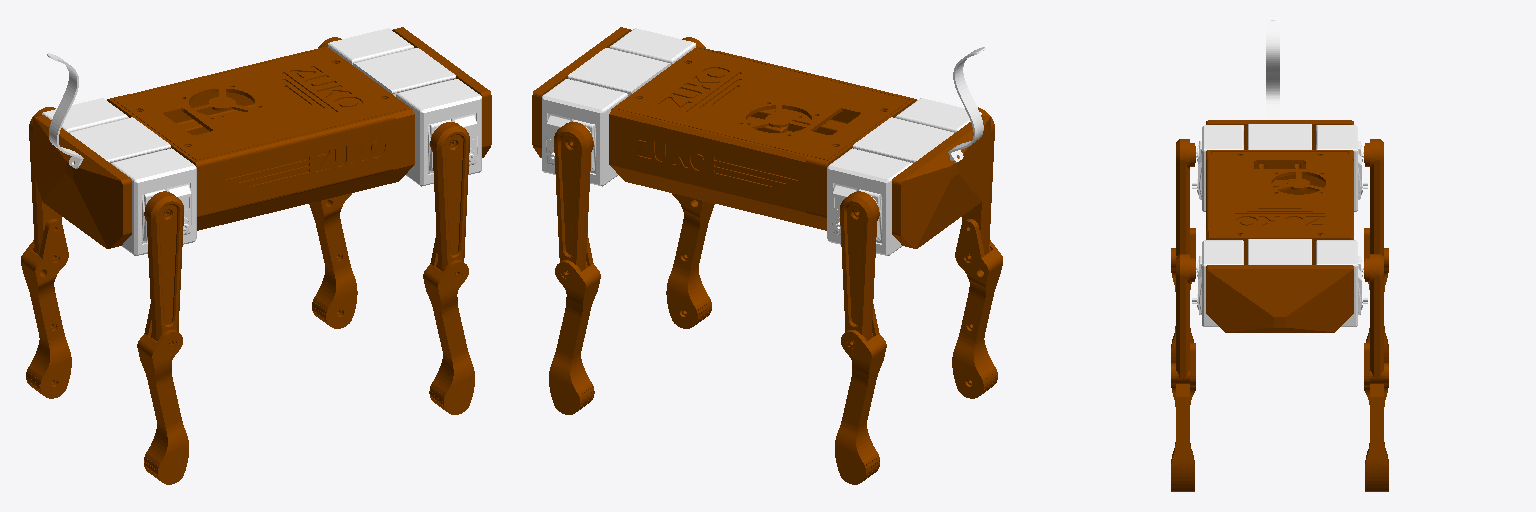
--- What the picture shows (computed from the rendered views, not written in the file) ---
Views: 3 orthographic renders of the robot side by side, from view 1: azimuth 30°, elevation 25°; view 2: azimuth 150°, elevation 25°; view 3: azimuth 270°, elevation 25°.
Robot: zuko — 23 links, 22 joints (12 revolute, 10 fixed); root link base_link; default pose: all joints at 0.
Links seen in each view (by area): view 1: electronics_cover_link, side_right_link, butt_link, back_left_lower_leg_link, front_right_lower_leg_link, back_right_lower_leg_link, front_right_hip_link, front_right_upper_leg_link, back_right_upper_leg_link, back_right_hip_link, front_left_lower_leg_link, bridge_front_link (+9 smaller); view 2: electronics_cover_link, side_left_link, butt_link, back_right_lower_leg_link, front_left_lower_leg_link, back_left_lower_leg_link, front_left_hip_link, front_left_upper_leg_link, back_left_upper_leg_link, back_left_hip_link, front_right_lower_leg_link, bridge_front_link (+9 smaller); view 3: electronics_cover_link, face_link, front_left_lower_leg_link, front_right_lower_leg_link, front_left_upper_leg_link, front_right_upper_leg_link, back_left_upper_leg_link, back_right_upper_leg_link, front_left_hip_link, front_right_hip_link, bridge_front_link, bridge_back_link (+8 smaller).
Link boxes in pixels (x1,y1,x2,y2): electronics_cover_link: (114,48,407,160); side_right_link: (204,113,395,228); butt_link: (33,115,131,248); back_left_lower_leg_link: (21,219,71,398); front_right_lower_leg_link: (423,233,474,414); back_right_lower_leg_link: (137,304,188,484); front_right_hip_link: (396,79,481,186); front_right_upper_leg_link: (430,122,469,278); back_right_upper_leg_link: (144,191,183,347); back_right_hip_link: (111,148,196,255); front_left_lower_leg_link: (309,193,357,328); bridge_front_link: (353,48,455,96); electronics_cover_link: (616,48,909,160); side_left_link: (629,113,819,228); butt_link: (892,115,990,248); back_right_lower_leg_link: (952,219,1002,398); front_left_lower_leg_link: (549,233,600,414); back_left_lower_leg_link: (835,304,886,484); front_left_hip_link: (542,79,627,186); front_left_upper_leg_link: (554,122,593,278); back_left_upper_leg_link: (840,191,879,347); back_left_hip_link: (827,148,912,255); front_right_lower_leg_link: (666,193,714,328); bridge_front_link: (568,48,670,96); electronics_cover_link: (1212,152,1347,236); face_link: (1206,265,1353,332); front_left_lower_leg_link: (1364,343,1388,491); front_right_lower_leg_link: (1171,343,1195,491); front_left_upper_leg_link: (1364,254,1383,383); front_right_upper_leg_link: (1176,254,1195,383); back_left_upper_leg_link: (1364,139,1383,256); back_right_upper_leg_link: (1176,139,1195,256); front_left_hip_link: (1316,240,1367,326); front_right_hip_link: (1192,240,1243,326); bridge_front_link: (1248,239,1311,264); bridge_back_link: (1248,124,1311,149).
Bounding box of the posed robot: 0.3471 × 0.19 × 0.3176 m (x, y, z).
23 mesh visuals loaded from 15 distinct referenced files (15 binary STL).

URDF robot description (zuko):
<?xml version="1.0" ?>
<!-- =================================================================================== -->
<!-- |    This document was autogenerated by xacro from [local-path]/zuko/quad_ws/src/quad_simulation/quad_simulation/urdf/zuko.urdf.xacro | -->
<!-- |    EDITING THIS FILE BY HAND IS NOT RECOMMENDED                                 | -->
<!-- =================================================================================== -->
<robot name="zuko">
  <!--
<xacro:include filename="$(find quad_urdf)/urdf/zuko_hips_and_legs.urdf.xacro" />
-->
  <material name="brown">
    <color rgba="0.588 0.294 0.0 1"/>
  </material>
  <material name="black">
    <color rgba="0.1 0.1 0.1 1"/>
  </material>
  <material name="white">
    <color rgba="1 1 1 1"/>
  </material>
  <!-- STATIC Links -->
  <link name="base_link">
    <visual>
      <origin rpy="1.5707963267948966 0 -1.5707963267948966" xyz="-0.0025 0 0"/>
      <geometry>
        <mesh filename="package://stl/center_front.stl" scale="1 1 1"/>
      </geometry>
      <material name="brown"/>
    </visual>
    <collision>
      <origin rpy="1.5707963267948966 0 -1.5707963267948966" xyz="-0.0025 0 0"/>
      <geometry>
        <!--<box size="${length} ${width} ${height}" />-->
        <mesh filename="package://stl/center_front.stl" scale="1 1 1"/>
      </geometry>
    </collision>
    <inertial>
      <mass value="0.6"/>
      <origin rpy="0 0 0" xyz="0 0 0"/>
      <!-- Inertial Axes -->
      <inertia ixx="0.0" ixy="0" ixz="0" iyx="0" iyy="0.0" iyz="0" izx="0" izy="0" izz="0.0"/>
    </inertial>
  </link>
  <gazebo reference="base_link">
  </gazebo>
  <link name="side_left_link">
    <visual>
      <origin rpy="1.5707963267948966 0 1.5707963267948966" xyz="0 0 0"/>
      <geometry>
        <mesh filename="package://stl/side_left.stl" scale="1 1 1"/>
      </geometry>
      <material name="brown"/>
    </visual>
    <collision>
      <origin rpy="1.5707963267948966 0 1.5707963267948966" xyz="0 0 0"/>
      <geometry>
        <!--<box size="${length} ${width} ${height}" />-->
        <mesh filename="package://stl/side_left.stl" scale="1 1 1"/>
      </geometry>
    </collision>
    <inertial>
      <mass value="0.6"/>
      <origin rpy="0 0 0" xyz="0 0 0"/>
      <!-- Inertial Axes -->
      <inertia ixx="0.0" ixy="0" ixz="0" iyx="0" iyy="0.0" iyz="0" izx="0" izy="0" izz="0.0"/>
    </inertial>
  </link>
  <gazebo reference="side_left_link">
  </gazebo>
  <link name="side_right_link">
    <visual>
      <origin rpy="1.5707963267948966 0 -1.5707963267948966" xyz="0 0 0"/>
      <geometry>
        <mesh filename="package://stl/side_right.stl" scale="1 1 1"/>
      </geometry>
      <material name="brown"/>
    </visual>
    <collision>
      <origin rpy="1.5707963267948966 0 -1.5707963267948966" xyz="0 0 0"/>
      <geometry>
        <!--<box size="${length} ${width} ${height}" />-->
        <mesh filename="package://stl/side_right.stl" scale="1 1 1"/>
      </geometry>
    </collision>
    <inertial>
      <mass value="0.6"/>
      <origin rpy="0 0 0" xyz="0 0 0"/>
      <!-- Inertial Axes -->
      <inertia ixx="0.0" ixy="0" ixz="0" iyx="0" iyy="0.0" iyz="0" izx="0" izy="0" izz="0.0"/>
    </inertial>
  </link>
  <gazebo reference="side_right_link">
  </gazebo>
  <link name="center_back_link">
    <visual>
      <origin rpy="1.5707963267948966 0 1.5707963267948966" xyz="0.0025 0 0"/>
      <geometry>
        <mesh filename="package://stl/center_back.stl" scale="1 1 1"/>
      </geometry>
      <material name="brown"/>
    </visual>
    <collision>
      <origin rpy="1.5707963267948966 0 1.5707963267948966" xyz="0.0025 0 0"/>
      <geometry>
        <!--<box size="${length} ${width} ${height}" />-->
        <mesh filename="package://stl/center_back.stl" scale="1 1 1"/>
      </geometry>
    </collision>
    <inertial>
      <mass value="0.6"/>
      <origin rpy="0 0 0" xyz="0 0 0"/>
      <!-- Inertial Axes -->
      <inertia ixx="0.0" ixy="0" ixz="0" iyx="0" iyy="0.0" iyz="0" izx="0" izy="0" izz="0.0"/>
    </inertial>
  </link>
  <gazebo reference="center_back_link">
  </gazebo>
  <link name="bridge_front_link">
    <visual>
      <origin rpy="1.5707963267948966 0 -1.5707963267948966" xyz="0 0 0"/>
      <geometry>
        <mesh filename="package://stl/bridge_front.stl" scale="1 1 1"/>
      </geometry>
      <material name="white"/>
    </visual>
    <collision>
      <origin rpy="1.5707963267948966 0 -1.5707963267948966" xyz="0 0 0"/>
      <geometry>
        <!--<box size="${length} ${width} ${height}" />-->
        <mesh filename="package://stl/bridge_front.stl" scale="1 1 1"/>
      </geometry>
    </collision>
    <inertial>
      <mass value="0.6"/>
      <origin rpy="0 0 0" xyz="0 0 0"/>
      <!-- Inertial Axes -->
      <inertia ixx="0.0" ixy="0" ixz="0" iyx="0" iyy="0.0" iyz="0" izx="0" izy="0" izz="0.0"/>
    </inertial>
  </link>
  <gazebo reference="bridge_front_link">
    <material>Gazebo/White</material>
  </gazebo>
  <link name="bridge_back_link">
    <visual>
      <origin rpy="1.5707963267948966 0 -1.5707963267948966" xyz="0 0 0"/>
      <geometry>
        <mesh filename="package://stl/bridge_back.stl" scale="1 1 1"/>
      </geometry>
      <material name="white"/>
    </visual>
    <collision>
      <origin rpy="1.5707963267948966 0 -1.5707963267948966" xyz="0 0 0"/>
      <geometry>
        <!--<box size="${length} ${width} ${height}" />-->
        <mesh filename="package://stl/bridge_back.stl" scale="1 1 1"/>
      </geometry>
    </collision>
    <inertial>
      <mass value="0.6"/>
      <origin rpy="0 0 0" xyz="0 0 0"/>
      <!-- Inertial Axes -->
      <inertia ixx="0.0" ixy="0" ixz="0" iyx="0" iyy="0.0" iyz="0" izx="0" izy="0" izz="0.0"/>
    </inertial>
  </link>
  <gazebo reference="bridge_back_link">
    <material>Gazebo/White</material>
  </gazebo>
  <link name="face_link">
    <visual>
      <origin rpy="1.5707963267948966 0 1.5707963267948966" xyz="0 0 0"/>
      <geometry>
        <mesh filename="package://stl/face.stl" scale="1 1 1"/>
      </geometry>
      <material name="brown"/>
    </visual>
    <collision>
      <origin rpy="1.5707963267948966 0 1.5707963267948966" xyz="0 0 0"/>
      <geometry>
        <!--<box size="${length} ${width} ${height}" />-->
        <mesh filename="package://stl/face.stl" scale="1 1 1"/>
      </geometry>
    </collision>
    <inertial>
      <mass value="0.6"/>
      <origin rpy="0 0 0" xyz="0 0 0"/>
      <!-- Inertial Axes -->
      <inertia ixx="0.0" ixy="0" ixz="0" iyx="0" iyy="0.0" iyz="0" izx="0" izy="0" izz="0.0"/>
    </inertial>
  </link>
  <gazebo reference="face_link">
  </gazebo>
  <link name="butt_link">
    <visual>
      <origin rpy="1.5707963267948966 0 -1.5707963267948966" xyz="0 0 0"/>
      <geometry>
        <mesh filename="package://stl/butt.stl" scale="1 1 1"/>
      </geometry>
      <material name="brown"/>
    </visual>
    <collision>
      <origin rpy="1.5707963267948966 0 -1.5707963267948966" xyz="0 0 0"/>
      <geometry>
        <!--<box size="${length} ${width} ${height}" />-->
        <mesh filename="package://stl/butt.stl" scale="1 1 1"/>
      </geometry>
    </collision>
    <inertial>
      <mass value="0.6"/>
      <origin rpy="0 0 0" xyz="0 0 0"/>
      <!-- Inertial Axes -->
      <inertia ixx="0.0" ixy="0" ixz="0" iyx="0" iyy="0.0" iyz="0" izx="0" izy="0" izz="0.0"/>
    </inertial>
  </link>
  <gazebo reference="butt_link">
  </gazebo>
  <link name="electronics_cover_link">
    <visual>
      <origin rpy="0 0 0" xyz="0 0 0"/>
      <geometry>
        <mesh filename="package://stl/electronics_cover.stl" scale="1 1 1"/>
      </geometry>
      <material name="brown"/>
    </visual>
    <collision>
      <origin rpy="0 0 0" xyz="0 0 0"/>
      <geometry>
        <!--<box size="${length} ${width} ${height}" />-->
        <mesh filename="package://stl/electronics_cover.stl" scale="1 1 1"/>
      </geometry>
    </collision>
    <inertial>
      <mass value="0.6"/>
      <origin rpy="0 0 0" xyz="0 0 0"/>
      <!-- Inertial Axes -->
      <inertia ixx="0.0" ixy="0" ixz="0" iyx="0" iyy="0.0" iyz="0" izx="0" izy="0" izz="0.0"/>
    </inertial>
  </link>
  <gazebo reference="electronics_cover_link">
  </gazebo>
  <link name="battery_cover_link">
    <visual>
      <origin rpy="0 0 0" xyz="0 0 0"/>
      <geometry>
        <mesh filename="package://stl/battery_cover.stl" scale="1 1 1"/>
      </geometry>
      <material name="brown"/>
    </visual>
    <collision>
      <origin rpy="0 0 0" xyz="0 0 0"/>
      <geometry>
        <!--<box size="${length} ${width} ${height}" />-->
        <mesh filename="package://stl/battery_cover.stl" scale="1 1 1"/>
      </geometry>
    </collision>
    <inertial>
      <mass value="0.6"/>
      <origin rpy="0 0 0" xyz="0 0 0"/>
      <!-- Inertial Axes -->
      <inertia ixx="0.0" ixy="0" ixz="0" iyx="0" iyy="0.0" iyz="0" izx="0" izy="0" izz="0.0"/>
    </inertial>
  </link>
  <gazebo reference="battery_cover_link">
  </gazebo>
  <link name="tail_link">
    <visual>
      <origin rpy="1.5707963267948966 0.6108652381980153 0" xyz="0 0 0"/>
      <geometry>
        <mesh filename="package://stl/tail.stl" scale="1 1 1"/>
      </geometry>
      <material name="white"/>
    </visual>
    <collision>
      <origin rpy="1.5707963267948966 0.6108652381980153 0" xyz="0 0 0"/>
      <geometry>
        <!--<box size="${length} ${width} ${height}" />-->
        <mesh filename="package://stl/tail.stl" scale="1 1 1"/>
      </geometry>
    </collision>
    <inertial>
      <mass value="0.6"/>
      <origin rpy="0 0 0" xyz="0 0 0"/>
      <!-- Inertial Axes -->
      <inertia ixx="0.0" ixy="0" ixz="0" iyx="0" iyy="0.0" iyz="0" izx="0" izy="0" izz="0.0"/>
    </inertial>
  </link>
  <gazebo reference="tail_link">
    <material>Gazebo/White</material>
  </gazebo>
  <!-- STATIC Joints -->
  <joint name="side_left_joint" type="fixed">
    <origin rpy="0 0 0" xyz="-0.16599999999999998 0.060 0.015"/>
    <parent link="base_link"/>
    <child link="side_left_link"/>
  </joint>
  <joint name="side_right_joint" type="fixed">
    <origin rpy="0 0 0" xyz="-0.018 -0.060 0.015"/>
    <parent link="base_link"/>
    <child link="side_right_link"/>
  </joint>
  <joint name="center_back_joint" type="fixed">
    <origin rpy="0 0 0" xyz="-0.18399999999999997 0 0"/>
    <parent link="base_link"/>
    <child link="center_back_link"/>
  </joint>
  <joint name="bridge_front_joint" type="fixed">
    <origin rpy="0 0  0" xyz="0.0535 0 -0.010"/>
    <parent link="base_link"/>
    <child link="bridge_front_link"/>
  </joint>
  <joint name="bridge_back_joint" type="fixed">
    <origin rpy="0 0 0" xyz="0 0 -0.010"/>
    <parent link="center_back_link"/>
    <child link="bridge_back_link"/>
  </joint>
  <joint name="face_joint" type="fixed">
    <origin rpy="0 0 0" xyz="0 0 0"/>
    <parent link="bridge_front_link"/>
    <child link="face_link"/>
  </joint>
  <joint name="butt_joint" type="fixed">
    <origin rpy="0 0 0" xyz="-0.0535 0 0"/>
    <parent link="bridge_back_link"/>
    <child link="butt_link"/>
  </joint>
  <joint name="electronics_cover_joint" type="fixed">
    <origin rpy="0 0 3.141592653589793" xyz="-0.092 0 0.019"/>
    <parent link="base_link"/>
    <child link="electronics_cover_link"/>
  </joint>
  <joint name="battery_cover_joint" type="fixed">
    <origin rpy="3.141592653589793 0 3.141592653589793" xyz="-0.09375 0 -0.039"/>
    <parent link="base_link"/>
    <child link="battery_cover_link"/>
  </joint>
  <joint name="tail_joint" type="fixed">
    <origin rpy="0 0 0 " xyz="-0.012419 0 0.025687"/>
    <parent link="butt_link"/>
    <child link="tail_link"/>
  </joint>
  <!-- Hips/Legs Links/Joints -->
  <link name="front_left_hip_link">
    <visual>
      <origin rpy="0 0 0" xyz="0 0 0"/>
      <geometry>
        <mesh filename="package://stl/hip_front.stl" scale="1 1 1"/>
      </geometry>
      <material name="white"/>
    </visual>
    <collision>
      <origin rpy="0 0 0" xyz="0 0 0"/>
      <geometry>
        <!--<box size="${length} ${width} ${height}" />-->
        <mesh filename="package://stl/hip_front.stl" scale="1 1 1"/>
      </geometry>
    </collision>
    <inertial>
      <mass value="0.6"/>
      <origin rpy="0 0 0" xyz="0 0 0"/>
      <!-- Inertial Axes -->
      <inertia ixx="0.0" ixy="0" ixz="0" iyx="0" iyy="0.0" iyz="0" izx="0" izy="0" izz="0.0"/>
    </inertial>
  </link>
  <gazebo reference="front_left_hip_link">
    <material>Gazebo/White</material>
  </gazebo>
  <joint name="front_left_hip_rev_joint" type="revolute">
    <axis xyz="-1 0 0"/>
    <origin rpy="0 0 3.141592653589793" xyz="0.002 0.0455 0"/>
    <parent link="base_link"/>
    <child link="front_left_hip_link"/>
    <limit effort="4.0" lower="-0.5235987755982988" upper="0.5235987755982988" velocity="4.0"/>
    <joint_properties damping="0.0" friction="0.0"/>
  </joint>
  <link name="front_left_upper_leg_link">
    <visual>
      <origin rpy="-1.5707963267948966 1.5707963267948966 0" xyz="0 0 0"/>
      <geometry>
        <mesh filename="package://stl/upper_leg.stl" scale="1 1 1"/>
      </geometry>
      <material name="brown"/>
    </visual>
    <collision>
      <origin rpy="-1.5707963267948966 1.5707963267948966 0" xyz="0 0 0"/>
      <geometry>
        <!--<box size="${length} ${width} ${height}" />-->
        <mesh filename="package://stl/upper_leg.stl" scale="1 1 1"/>
      </geometry>
    </collision>
    <inertial>
      <mass value="0.6"/>
      <origin rpy="0 0 0" xyz="0 0 0"/>
      <!-- Inertial Axes -->
      <inertia ixx="0.0" ixy="0" ixz="0" iyx="0" iyy="0.0" iyz="0" izx="0" izy="0" izz="0.0"/>
    </inertial>
  </link>
  <gazebo reference="front_left_upper_leg_link">
  </gazebo>
  <joint name="front_left_upper_leg_rev_joint" type="revolute">
    <axis xyz="0 1 0"/>
    <origin rpy="0 0 3.141592653589793" xyz="-0.0145 -0.03175 0"/>
    <parent link="front_left_hip_link"/>
    <child link="front_left_upper_leg_link"/>
    <limit effort="4.0" lower="-3.141592653589793" upper="3.141592653589793" velocity="4.0"/>
    <joint_properties damping="0.0" friction="0.0"/>
  </joint>
  <link name="front_left_lower_leg_link">
    <visual>
      <origin rpy="1.5707963267948966 1.5707963267948966 3.141592653589793" xyz="0 -0.0075 0"/>
      <geometry>
        <mesh filename="package://stl/lower_leg.stl" scale="1 1 1"/>
      </geometry>
      <material name="brown"/>
    </visual>
    <collision>
      <origin rpy="1.5707963267948966 1.5707963267948966 3.141592653589793" xyz="0 -0.0075 0"/>
      <geometry>
        <!--<box size="${length} ${width} ${height}" />-->
        <mesh filename="package://stl/lower_leg.stl" scale="1 1 1"/>
      </geometry>
    </collision>
    <inertial>
      <mass value="0.6"/>
      <origin rpy="0 0 0" xyz="0 0 0"/>
      <!-- Inertial Axes -->
      <inertia ixx="0.0" ixy="0" ixz="0" iyx="0" iyy="0.0" iyz="0" izx="0" izy="0" izz="0.0"/>
    </inertial>
  </link>
  <gazebo reference="front_left_lower_leg_link">
  </gazebo>
  <joint name="front_left_lower_leg_rev_joint" type="revolute">
    <axis xyz="0 -1 0"/>
    <origin rpy="0 0 3.141592653589793" xyz="0 0 -0.1"/>
    <parent link="front_left_upper_leg_link"/>
    <child link="front_left_lower_leg_link"/>
    <limit effort="4.0" lower="-3.141592653589793" upper="3.141592653589793" velocity="4.0"/>
    <joint_properties damping="0.0" friction="0.0"/>
  </joint>
  <link name="front_right_hip_link">
    <visual>
      <origin rpy="0 0 0" xyz="0 0 0"/>
      <geometry>
        <mesh filename="package://stl/hip_front.stl" scale="1 -1 1"/>
      </geometry>
      <material name="white"/>
    </visual>
    <collision>
      <origin rpy="0 0 0" xyz="0 0 0"/>
      <geometry>
        <!--<box size="${length} ${width} ${height}" />-->
        <mesh filename="package://stl/hip_front.stl" scale="1 -1 1"/>
      </geometry>
    </collision>
    <inertial>
      <mass value="0.6"/>
      <origin rpy="0 0 0" xyz="0 0 0"/>
      <!-- Inertial Axes -->
      <inertia ixx="0.0" ixy="0" ixz="0" iyx="0" iyy="0.0" iyz="0" izx="0" izy="0" izz="0.0"/>
    </inertial>
  </link>
  <gazebo reference="front_right_hip_link">
    <material>Gazebo/White</material>
  </gazebo>
  <joint name="front_right_hip_rev_joint" type="revolute">
    <axis xyz="-1 0 0"/>
    <origin rpy="0 0 3.141592653589793" xyz="0.002 -0.0455 0"/>
    <parent link="base_link"/>
    <child link="front_right_hip_link"/>
    <limit effort="4.0" lower="-0.5235987755982988" upper="0.5235987755982988" velocity="4.0"/>
    <joint_properties damping="0.0" friction="0.0"/>
  </joint>
  <link name="front_right_upper_leg_link">
    <visual>
      <origin rpy="-1.5707963267948966 1.5707963267948966 3.141592653589793" xyz="0 0 0"/>
      <geometry>
        <mesh filename="package://stl/upper_leg.stl" scale="1 1 1"/>
      </geometry>
      <material name="brown"/>
    </visual>
    <collision>
      <origin rpy="-1.5707963267948966 1.5707963267948966 3.141592653589793" xyz="0 0 0"/>
      <geometry>
        <!--<box size="${length} ${width} ${height}" />-->
        <mesh filename="package://stl/upper_leg.stl" scale="1 1 1"/>
      </geometry>
    </collision>
    <inertial>
      <mass value="0.6"/>
      <origin rpy="0 0 0" xyz="0 0 0"/>
      <!-- Inertial Axes -->
      <inertia ixx="0.0" ixy="0" ixz="0" iyx="0" iyy="0.0" iyz="0" izx="0" izy="0" izz="0.0"/>
    </inertial>
  </link>
  <gazebo reference="front_right_upper_leg_link">
  </gazebo>
  <joint name="front_right_upper_leg_rev_joint" type="revolute">
    <axis xyz="0 1 0"/>
    <origin rpy="0 0 3.141592653589793" xyz="-0.0145 0.03175 0"/>
    <parent link="front_right_hip_link"/>
    <child link="front_right_upper_leg_link"/>
    <limit effort="4.0" lower="-3.141592653589793" upper="3.141592653589793" velocity="4.0"/>
    <joint_properties damping="0.0" friction="0.0"/>
  </joint>
  <link name="front_right_lower_leg_link">
    <visual>
      <origin rpy="1.5707963267948966 1.5707963267948966  3.141592653589793" xyz="0 0.0075 0"/>
      <geometry>
        <mesh filename="package://stl/lower_leg.stl" scale="1 1 -1"/>
      </geometry>
      <material name="brown"/>
    </visual>
    <collision>
      <origin rpy="1.5707963267948966 1.5707963267948966  3.141592653589793" xyz="0 0.0075 0"/>
      <geometry>
        <!--<box size="${length} ${width} ${height}" />-->
        <mesh filename="package://stl/lower_leg.stl" scale="1 1 -1"/>
      </geometry>
    </collision>
    <inertial>
      <mass value="0.6"/>
      <origin rpy="0 0 0" xyz="0 0 0"/>
      <!-- Inertial Axes -->
      <inertia ixx="0.0" ixy="0" ixz="0" iyx="0" iyy="0.0" iyz="0" izx="0" izy="0" izz="0.0"/>
    </inertial>
  </link>
  <gazebo reference="front_right_lower_leg_link">
  </gazebo>
  <joint name="front_right_lower_leg_rev_joint" type="revolute">
    <axis xyz="0 -1 0"/>
    <origin rpy="0 0 3.141592653589793" xyz="0 0 -0.1"/>
    <parent link="front_right_upper_leg_link"/>
    <child link="front_right_lower_leg_link"/>
    <limit effort="4.0" lower="-3.141592653589793" upper="3.141592653589793" velocity="4.0"/>
    <joint_properties damping="0.0" friction="0.0"/>
  </joint>
  <link name="back_left_hip_link">
    <visual>
      <origin rpy="0 0 3.141592653589793" xyz="0 0 0"/>
      <geometry>
        <mesh filename="package://stl/hip_back.stl" scale="1 1 1"/>
      </geometry>
      <material name="white"/>
    </visual>
    <collision>
      <origin rpy="0 0 3.141592653589793" xyz="0 0 0"/>
      <geometry>
        <!--<box size="${length} ${width} ${height}" />-->
        <mesh filename="package://stl/hip_back.stl" scale="1 1 1"/>
      </geometry>
    </collision>
    <inertial>
      <mass value="0.6"/>
      <origin rpy="0 0 0" xyz="0 0 0"/>
      <!-- Inertial Axes -->
      <inertia ixx="0.0" ixy="0" ixz="0" iyx="0" iyy="0.0" iyz="0" izx="0" izy="0" izz="0.0"/>
    </inertial>
  </link>
  <gazebo reference="back_left_hip_link">
    <material>Gazebo/White</material>
  </gazebo>
  <joint name="back_left_hip_rev_joint" type="revolute">
    <axis xyz="1 0 0"/>
    <origin rpy="0 0 0" xyz="-0.002 0.0455 0"/>
    <parent link="center_back_link"/>
    <child link="back_left_hip_link"/>
    <limit effort="4.0" lower="-0.5235987755982988" upper="0.5235987755982988" velocity="4.0"/>
    <joint_properties damping="0.0" friction="0.0"/>
  </joint>
  <link name="back_left_upper_leg_link">
    <visual>
      <origin rpy="-1.5707963267948966 1.5707963267948966 0" xyz="0 0 0"/>
      <geometry>
        <mesh filename="package://stl/upper_leg.stl" scale="1 1 1"/>
      </geometry>
      <material name="brown"/>
    </visual>
    <collision>
      <origin rpy="-1.5707963267948966 1.5707963267948966 0" xyz="0 0 0"/>
      <geometry>
        <!--<box size="${length} ${width} ${height}" />-->
        <mesh filename="package://stl/upper_leg.stl" scale="1 1 1"/>
      </geometry>
    </collision>
    <inertial>
      <mass value="0.6"/>
      <origin rpy="0 0 0" xyz="0 0 0"/>
      <!-- Inertial Axes -->
      <inertia ixx="0.0" ixy="0" ixz="0" iyx="0" iyy="0.0" iyz="0" izx="0" izy="0" izz="0.0"/>
    </inertial>
  </link>
  <gazebo reference="back_left_upper_leg_link">
  </gazebo>
  <joint name="back_left_upper_leg_rev_joint" type="revolute">
    <axis xyz="0 1 0"/>
    <origin rpy="0 0 0" xyz="-0.035500000000000004 0.03175 0"/>
    <parent link="back_left_hip_link"/>
    <child link="back_left_upper_leg_link"/>
    <limit effort="4.0" lower="-3.141592653589793" upper="3.141592653589793" velocity="4.0"/>
    <joint_properties damping="0.0" friction="0.0"/>
  </joint>
  <link name="back_left_lower_leg_link">
    <visual>
      <origin rpy="1.5707963267948966 1.5707963267948966 3.141592653589793" xyz="0 -0.0075 0"/>
      <geometry>
        <mesh filename="package://stl/lower_leg.stl" scale="1 1 1"/>
      </geometry>
      <material name="brown"/>
    </visual>
    <collision>
      <origin rpy="1.5707963267948966 1.5707963267948966 3.141592653589793" xyz="0 -0.0075 0"/>
      <geometry>
        <!--<box size="${length} ${width} ${height}" />-->
        <mesh filename="package://stl/lower_leg.stl" scale="1 1 1"/>
      </geometry>
    </collision>
    <inertial>
      <mass value="0.6"/>
      <origin rpy="0 0 0" xyz="0 0 0"/>
      <!-- Inertial Axes -->
      <inertia ixx="0.0" ixy="0" ixz="0" iyx="0" iyy="0.0" iyz="0" izx="0" izy="0" izz="0.0"/>
    </inertial>
  </link>
  <gazebo reference="back_left_lower_leg_link">
  </gazebo>
  <joint name="back_left_lower_leg_rev_joint" type="revolute">
    <axis xyz="0 -1 0"/>
    <origin rpy="0 0 3.141592653589793" xyz="0 0 -0.1"/>
    <parent link="back_left_upper_leg_link"/>
    <child link="back_left_lower_leg_link"/>
    <limit effort="4.0" lower="-3.141592653589793" upper="3.141592653589793" velocity="4.0"/>
    <joint_properties damping="0.0" friction="0.0"/>
  </joint>
  <link name="back_right_hip_link">
    <visual>
      <origin rpy="0 0 3.141592653589793" xyz="0 0 0"/>
      <geometry>
        <mesh filename="package://stl/hip_back.stl" scale="1 -1 1"/>
      </geometry>
      <material name="white"/>
    </visual>
    <collision>
      <origin rpy="0 0 3.141592653589793" xyz="0 0 0"/>
      <geometry>
        <!--<box size="${length} ${width} ${height}" />-->
        <mesh filename="package://stl/hip_back.stl" scale="1 -1 1"/>
      </geometry>
    </collision>
    <inertial>
      <mass value="0.6"/>
      <origin rpy="0 0 0" xyz="0 0 0"/>
      <!-- Inertial Axes -->
      <inertia ixx="0.0" ixy="0" ixz="0" iyx="0" iyy="0.0" iyz="0" izx="0" izy="0" izz="0.0"/>
    </inertial>
  </link>
  <gazebo reference="back_right_hip_link">
    <material>Gazebo/White</material>
  </gazebo>
  <joint name="back_right_hip_rev_joint" type="revolute">
    <axis xyz="1 0 0"/>
    <origin rpy="0 0 0" xyz="-0.002 -0.0455 0"/>
    <parent link="center_back_link"/>
    <child link="back_right_hip_link"/>
    <limit effort="4.0" lower="-0.5235987755982988" upper="0.5235987755982988" velocity="4.0"/>
    <joint_properties damping="0.0" friction="0.0"/>
  </joint>
  <link name="back_right_upper_leg_link">
    <visual>
      <origin rpy="-1.5707963267948966 1.5707963267948966 3.141592653589793 " xyz="0 0 0"/>
      <geometry>
        <mesh filename="package://stl/upper_leg.stl" scale="1 1 1"/>
      </geometry>
      <material name="brown"/>
    </visual>
    <collision>
      <origin rpy="-1.5707963267948966 1.5707963267948966 3.141592653589793 " xyz="0 0 0"/>
      <geometry>
        <!--<box size="${length} ${width} ${height}" />-->
        <mesh filename="package://stl/upper_leg.stl" scale="1 1 1"/>
      </geometry>
    </collision>
    <inertial>
      <mass value="0.6"/>
      <origin rpy="0 0 0" xyz="0 0 0"/>
      <!-- Inertial Axes -->
      <inertia ixx="0.0" ixy="0" ixz="0" iyx="0" iyy="0.0" iyz="0" izx="0" izy="0" izz="0.0"/>
    </inertial>
  </link>
  <gazebo reference="back_right_upper_leg_link">
  </gazebo>
  <joint name="back_right_upper_leg_rev_joint" type="revolute">
    <axis xyz="0 1 0"/>
    <origin rpy="0 0 0" xyz="-0.035500000000000004 -0.03175 0"/>
    <parent link="back_right_hip_link"/>
    <child link="back_right_upper_leg_link"/>
    <limit effort="4.0" lower="-3.141592653589793" upper="3.141592653589793" velocity="4.0"/>
    <joint_properties damping="0.0" friction="0.0"/>
  </joint>
  <link name="back_right_lower_leg_link">
    <visual>
      <origin rpy="1.5707963267948966 1.5707963267948966 3.141592653589793" xyz="0 0.0075 0"/>
      <geometry>
        <mesh filename="package://stl/lower_leg.stl" scale="1 1 -1"/>
      </geometry>
      <material name="brown"/>
    </visual>
    <collision>
      <origin rpy="1.5707963267948966 1.5707963267948966 3.141592653589793" xyz="0 0.0075 0"/>
      <geometry>
        <!--<box size="${length} ${width} ${height}" />-->
        <mesh filename="package://stl/lower_leg.stl" scale="1 1 -1"/>
      </geometry>
    </collision>
    <inertial>
      <mass value="0.6"/>
      <origin rpy="0 0 0" xyz="0 0 0"/>
      <!-- Inertial Axes -->
      <inertia ixx="0.0062499999999999995" ixy="0" ixz="0" iyx="0" iyy="0.0037578125000000003" iyz="0" izx="0" izy="0" izz="0.0037578125000000003"/>
    </inertial>
  </link>
  <gazebo reference="back_right_lower_leg_link">
  </gazebo>
  <joint name="back_right_lower_leg_rev_joint" type="revolute">
    <axis xyz="0 -1 0"/>
    <origin rpy="0 0 3.141592653589793" xyz="0 0 -0.1"/>
    <parent link="back_right_upper_leg_link"/>
    <child link="back_right_lower_leg_link"/>
    <limit effort="4.0" lower="-3.141592653589793" upper="3.141592653589793" velocity="4.0"/>
    <joint_properties damping="0.0" friction="0.0"/>
  </joint>
  <!-- GAZEBO related requirements-->
  <!--
	<xacro:transmission leg="front_left"/>
	<xacro:transmission leg="front_right"/>
	<xacro:transmission leg="back_left"/>
	<xacro:transmission leg="back_right"/>  
-->
</robot>
